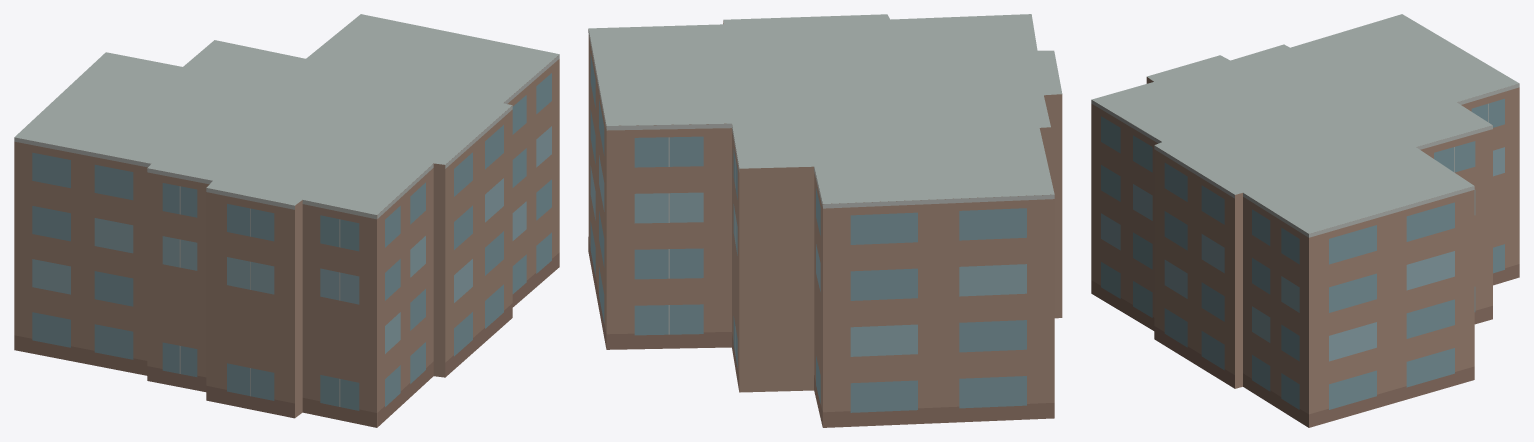
The model's file is survey-upis-32774606.glb.
The picture shows the model from 3 angles, left to right: view 1: azimuth 30°, elevation 25°; view 2: azimuth 150°, elevation 25°; view 3: azimuth 270°, elevation 25°; orthographic projection. The views are drawn at different scales.
Visible parts, largest first — view 1: survey-upis-32774606.tmp; view 2: survey-upis-32774606.tmp; view 3: survey-upis-32774606.tmp.
Boxes of the visible parts, box(x1,y1,x2,y2) form: survey-upis-32774606.tmp: box(14, 14, 559, 427); survey-upis-32774606.tmp: box(588, 14, 1062, 427); survey-upis-32774606.tmp: box(1091, 14, 1519, 427).
Size of the model in its own units: 29.67 by 12.2 by 24.42.
